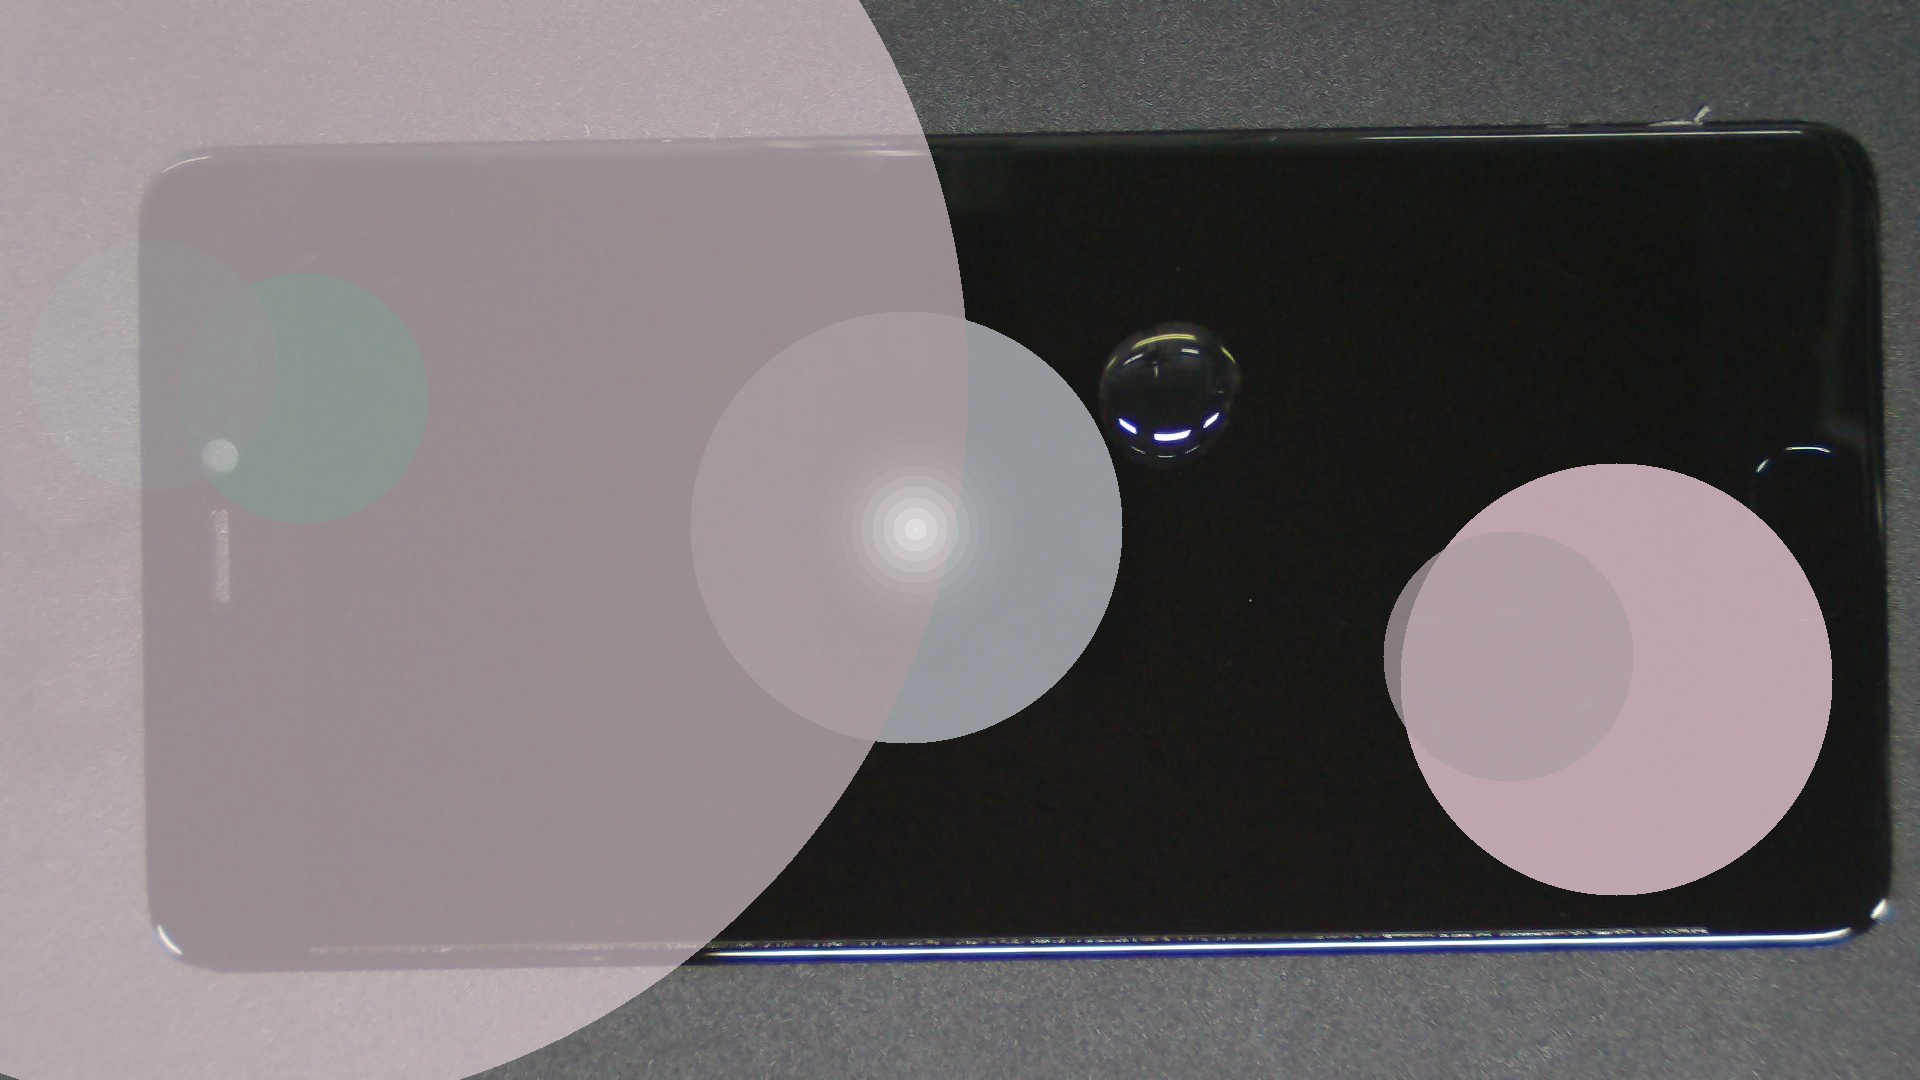oil: (585, 160, 1754, 483)
